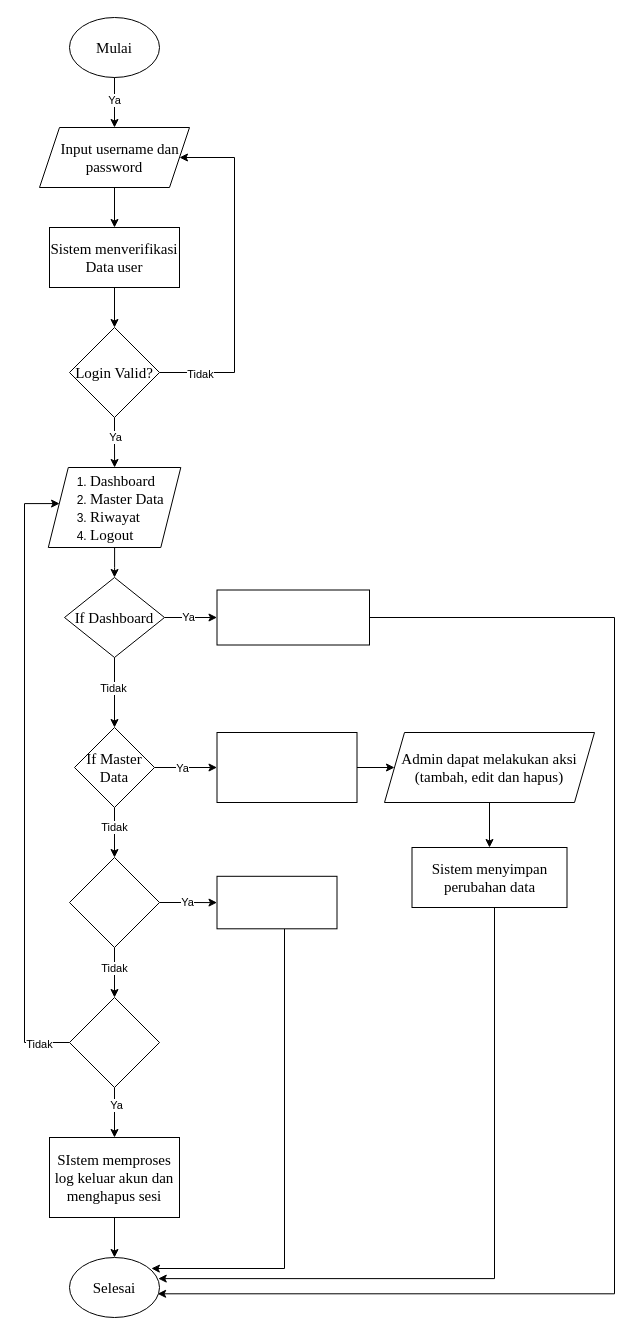
The diagram is 640 pixels wide and 1335 high, and some of its shapes have lost their labels. The centre of each missing label's shape, as x and y in pixels:
"If Logout" belongs at point 114,1042.
"If Riwayat" belongs at point 114,902.
"Menampilkan data fakultas, prodi, users, dll" belongs at point 286,767.
"Menampilkan halaman utama" belongs at point 293,617.
"Menampilkan log aktivitas user" belongs at point 276,902.
